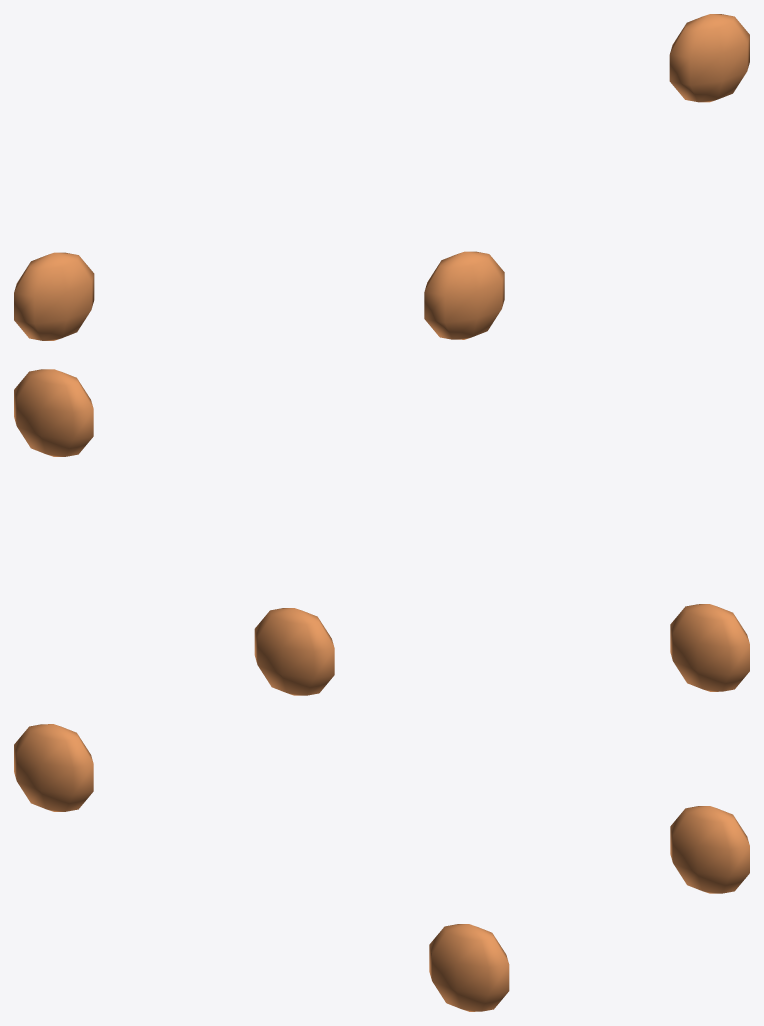
Rendered from food_mess.glb.
3 views of the same model, one above another, from view 1: azimuth 30°, elevation 25°; view 2: azimuth 150°, elevation 25°; view 3: azimuth 330°, elevation 25° (orthographic).
Visible parts, largest first — view 1: food_mess_Head; view 2: food_mess_Head; view 3: food_mess_Head.
Part boxes in pixels (x1,y1,x2,y2): food_mess_Head: (14,14,749,340); food_mess_Head: (14,369,749,695); food_mess_Head: (14,724,749,1011).
Bounding box in the file's own units: 0.3151 × 0.1092 × 0.0214.
